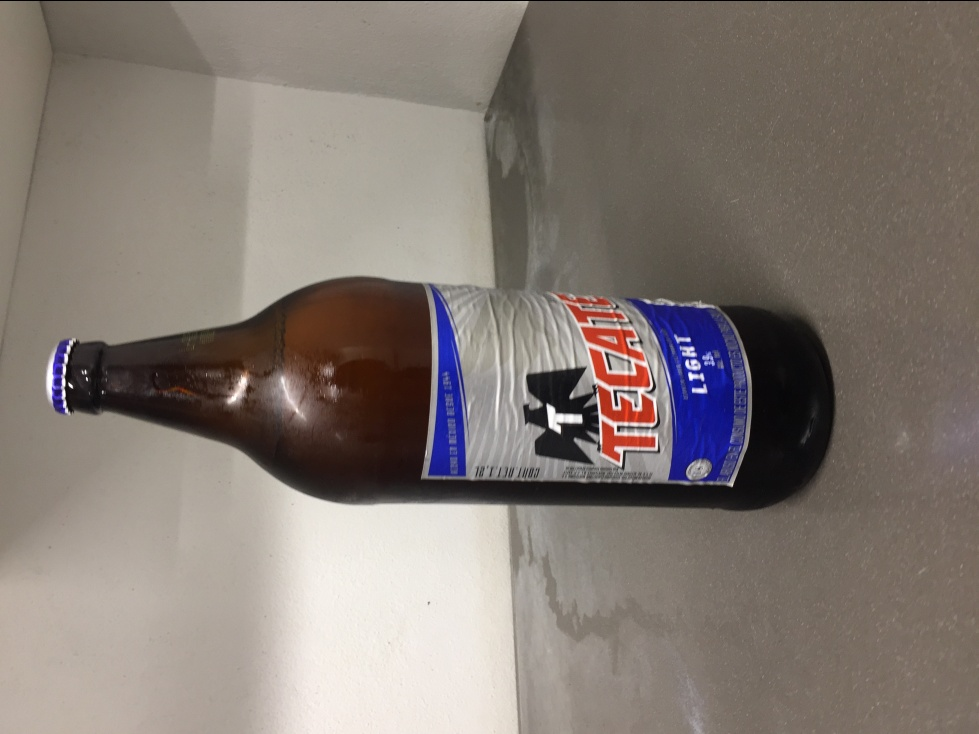tecateC: (47, 275, 837, 516)
